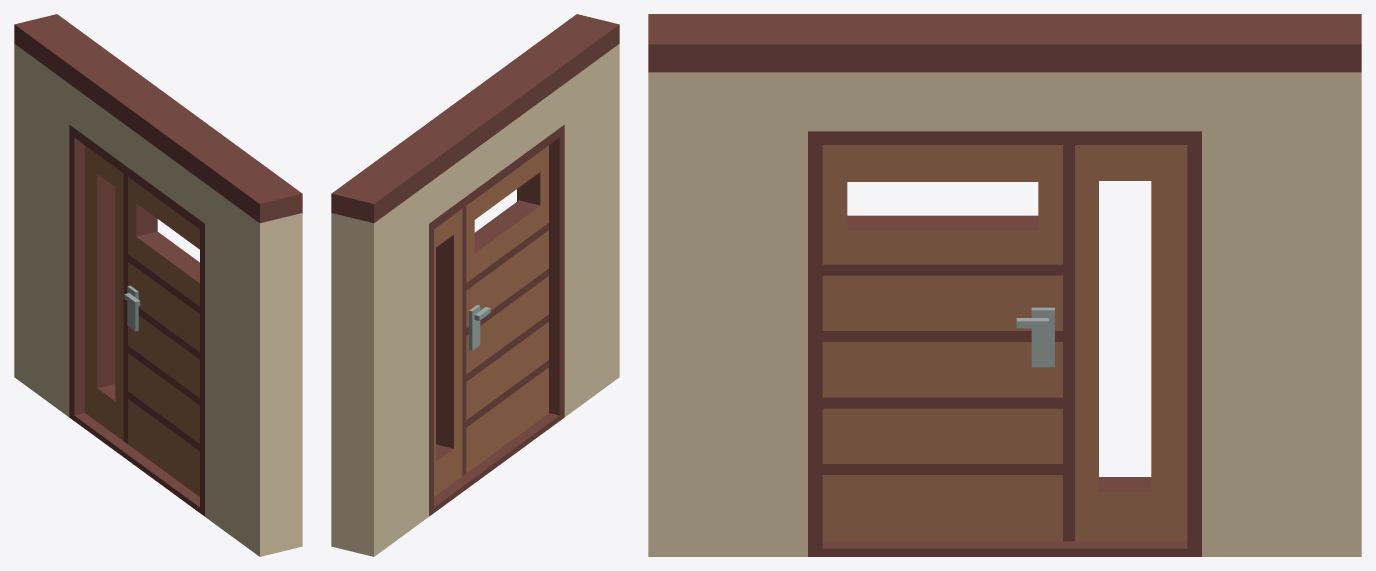
File: WallDoors.fbx
3 renders of one model, left to right at view 1: azimuth 30°, elevation 25°; view 2: azimuth 150°, elevation 25°; view 3: azimuth 270°, elevation 25°, orthographic. The views are drawn at different scales.
Visible parts, largest first — view 1: WallDoors; view 2: WallDoors; view 3: WallDoors.
Part boxes in pixels (x1,y1,x2,y2): WallDoors: (14, 14, 302, 556); WallDoors: (331, 14, 619, 556); WallDoors: (648, 14, 1361, 556).
Size of the model in its own units: 0.4019 by 4 by 3.17.
